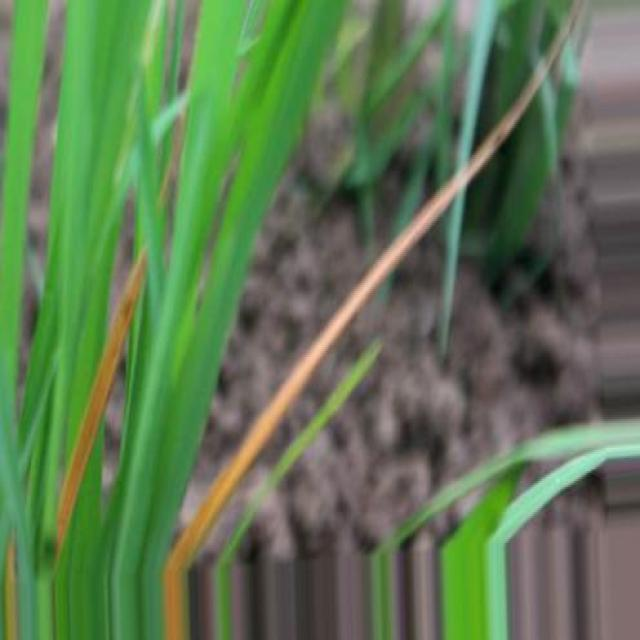Rice Tungro: (164, 4, 579, 639), (55, 250, 146, 559)
